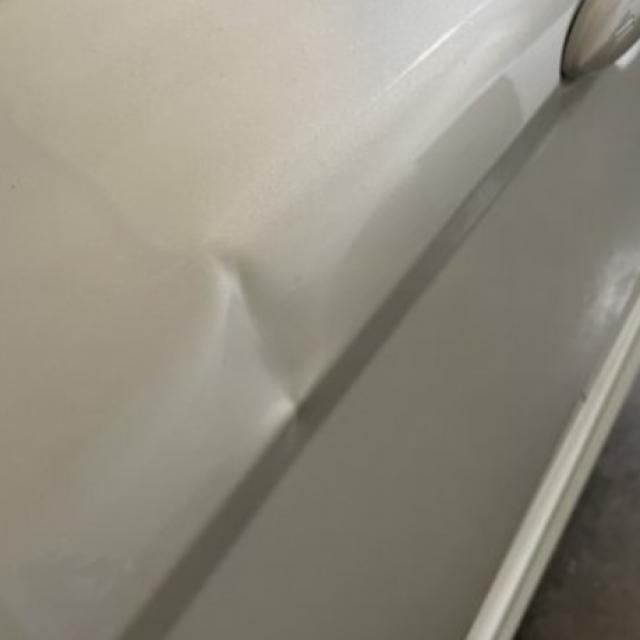dents: (180, 235, 347, 426)
